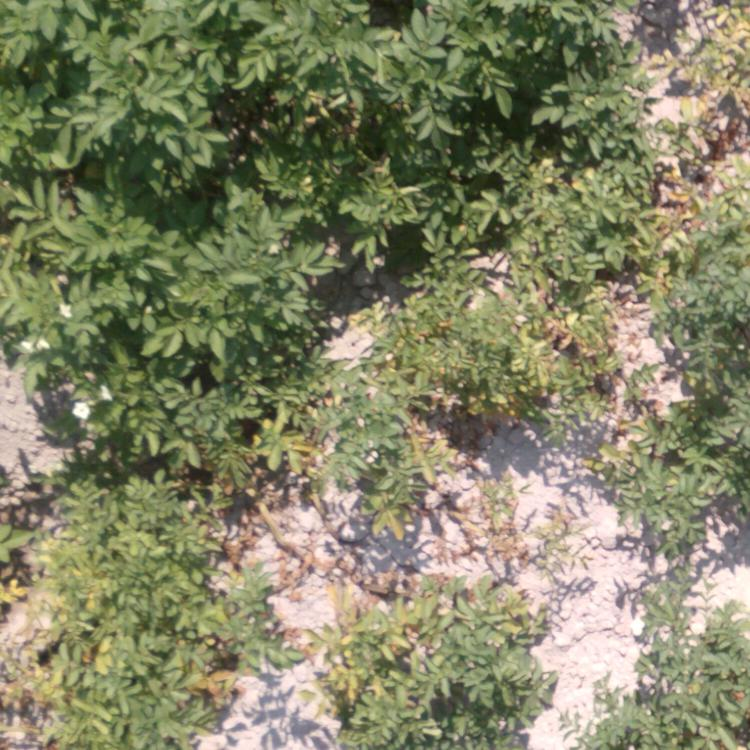healthy: (9, 3, 288, 377), (296, 2, 617, 223), (679, 212, 746, 527), (595, 608, 747, 746), (80, 386, 210, 540)
stressed: (328, 268, 522, 533), (5, 551, 232, 740), (309, 575, 534, 743), (547, 237, 669, 452), (645, 2, 746, 204)
